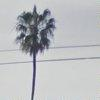Palm tree: (12, 3, 58, 92)
